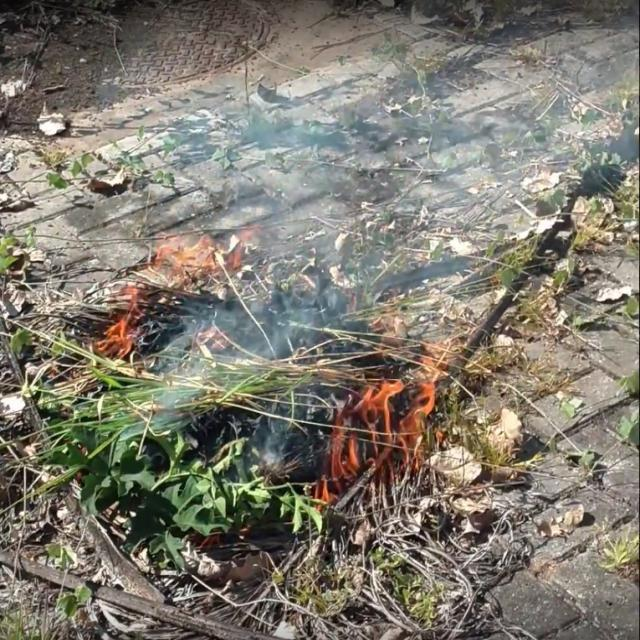Fire: (68, 220, 232, 360), (313, 360, 450, 526)
